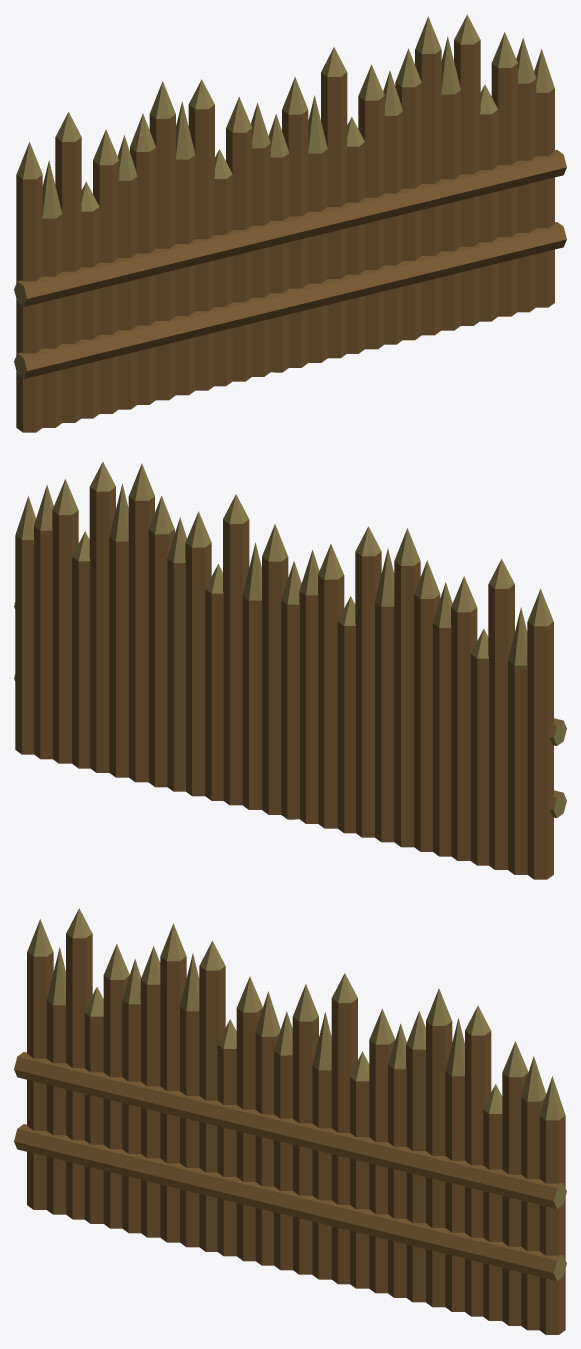
The model's file is Wood_Wall_01.fbx.
3 renders of one model, top to bottom at view 1: azimuth 30°, elevation 25°; view 2: azimuth 150°, elevation 25°; view 3: azimuth 330°, elevation 25°, orthographic.
Parts seen in each view (by area): view 1: Wood_Wall_01_sh_123, Wood_Wall_01_sh_41, Wood_Wall_01_sh_21, Wood_Wall_01_sh_23, Wood_Wall_01_sh_121, Wood_Wall_01_sh_46, Wood_Wall_01_sh_44, Wood_Wall_01_sh_97, Wood_Wall_01_sh_94, Wood_Wall_01_sh_120, Wood_Wall_01_sh_10, Wood_Wall_01_sh_33 (+78 smaller); view 2: Wood_Wall_01_sh_120, Wood_Wall_01_sh_41, Wood_Wall_01_sh_23, Wood_Wall_01_sh_11, Wood_Wall_01_sh_21, Wood_Wall_01_sh_46, Wood_Wall_01_sh_15, Wood_Wall_01_sh_132, Wood_Wall_01_sh_38, Wood_Wall_01_sh_1, Wood_Wall_01_sh_44, Wood_Wall_01_sh_122 (+56 smaller); view 3: Wood_Wall_01_sh_23, Wood_Wall_01_sh_21, Wood_Wall_01_sh_123, Wood_Wall_01_sh_41, Wood_Wall_01_sh_121, Wood_Wall_01_sh_94, Wood_Wall_01_sh_46, Wood_Wall_01_sh_38, Wood_Wall_01_sh_24, Wood_Wall_01_sh_2, Wood_Wall_01_sh_15, Wood_Wall_01_sh_132 (+83 smaller).
Boxes of the visible parts, <box> form: Wood_Wall_01_sh_123: <box>42,186,62,427</box>; Wood_Wall_01_sh_41: <box>358,85,384,349</box>; Wood_Wall_01_sh_21: <box>516,45,536,312</box>; Wood_Wall_01_sh_23: <box>534,49,554,307</box>; Wood_Wall_01_sh_121: <box>17,202,42,432</box>; Wood_Wall_01_sh_46: <box>395,49,421,260</box>; Wood_Wall_01_sh_44: <box>383,89,402,344</box>; Wood_Wall_01_sh_97: <box>195,163,214,390</box>; Wood_Wall_01_sh_94: <box>176,173,195,395</box>; Wood_Wall_01_sh_120: <box>16,142,42,427</box>; Wood_Wall_01_sh_10: <box>454,17,480,170</box>; Wood_Wall_01_sh_33: <box>322,64,343,270</box>; Wood_Wall_01_sh_120: <box>527,588,553,879</box>; Wood_Wall_01_sh_41: <box>185,524,211,796</box>; Wood_Wall_01_sh_23: <box>15,496,35,754</box>; Wood_Wall_01_sh_11: <box>89,506,109,772</box>; Wood_Wall_01_sh_21: <box>34,493,53,759</box>; Wood_Wall_01_sh_46: <box>148,496,174,735</box>; Wood_Wall_01_sh_15: <box>72,539,90,768</box>; Wood_Wall_01_sh_132: <box>451,645,470,860</box>; Wood_Wall_01_sh_38: <box>205,576,223,800</box>; Wood_Wall_01_sh_1: <box>128,479,154,682</box>; Wood_Wall_01_sh_44: <box>167,535,186,791</box>; Wood_Wall_01_sh_122: <box>508,607,527,826</box>; Wood_Wall_01_sh_23: <box>539,1076,565,1334</box>; Wood_Wall_01_sh_21: <box>521,1063,546,1330</box>; Wood_Wall_01_sh_123: <box>46,973,66,1214</box>; Wood_Wall_01_sh_41: <box>369,1021,395,1293</box>; Wood_Wall_01_sh_121: <box>27,979,46,1209</box>; Wood_Wall_01_sh_94: <box>180,1025,199,1247</box>; Wood_Wall_01_sh_46: <box>406,1011,425,1219</box>; Wood_Wall_01_sh_38: <box>350,1064,369,1288</box>; Wood_Wall_01_sh_24: <box>292,984,318,1123</box>; Wood_Wall_01_sh_2: <box>426,988,452,1141</box>; Wood_Wall_01_sh_15: <box>483,1123,502,1320</box>; Wood_Wall_01_sh_132: <box>103,1042,122,1228</box>.
Bounding box in the file's own units: 7073 × 3938 × 421.
